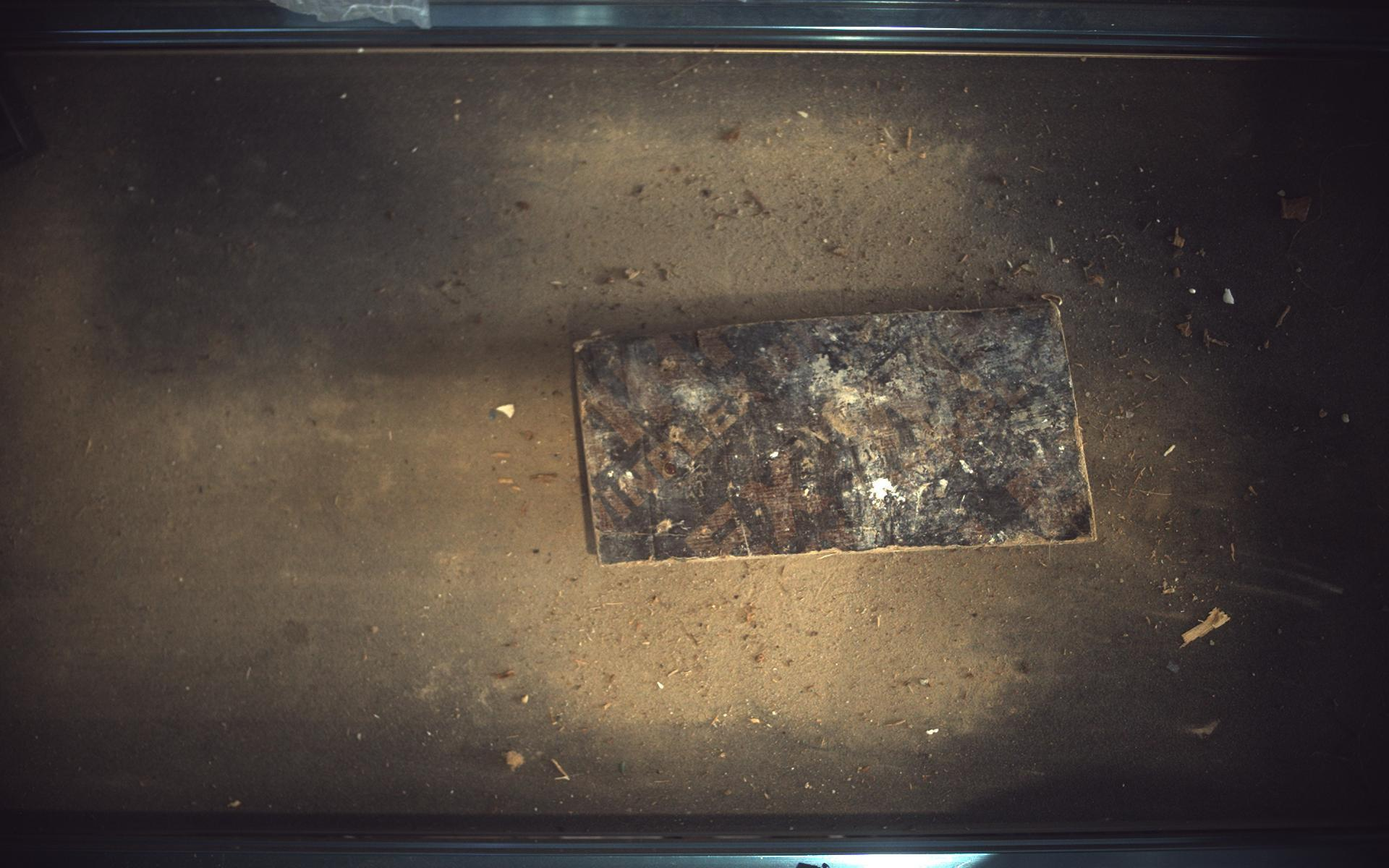wood: (574, 302, 1098, 564)
